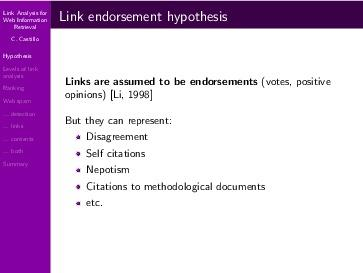paragraph: (60, 61, 341, 221)
title: (59, 6, 231, 33)
